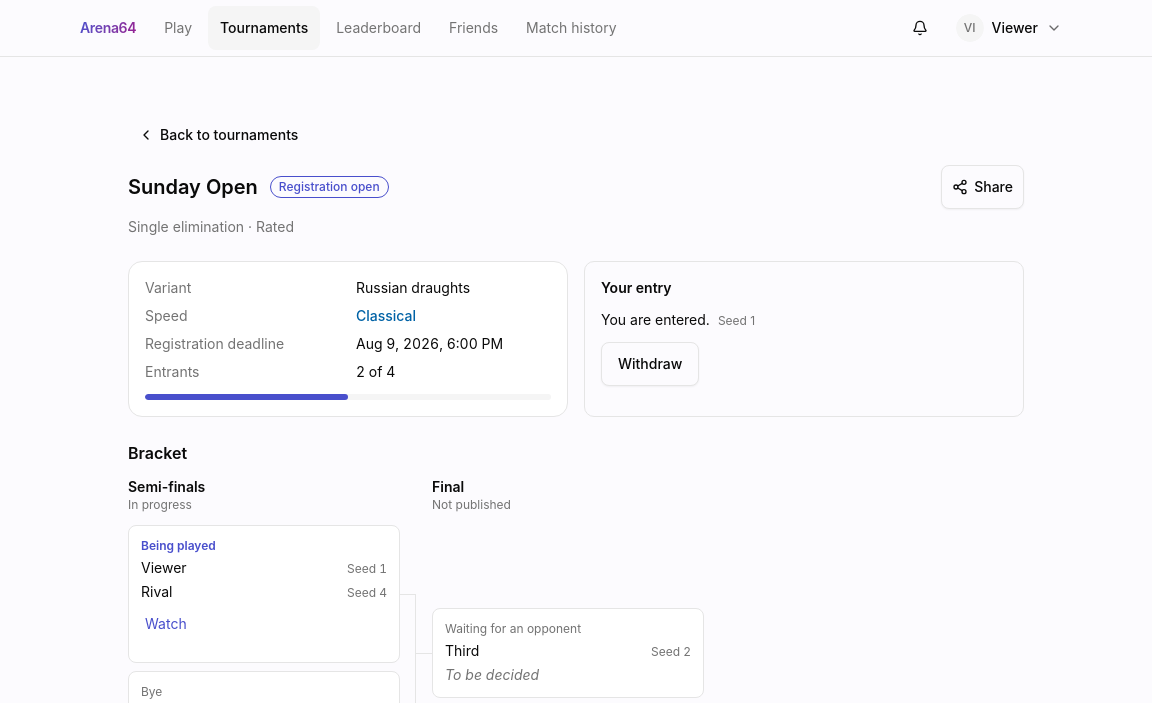
Test: asks before withdrawing and reports the server's refusal by code
Click the button "Withdraw".
click(650, 364)  # box x1=601 y1=342 x2=699 y2=386
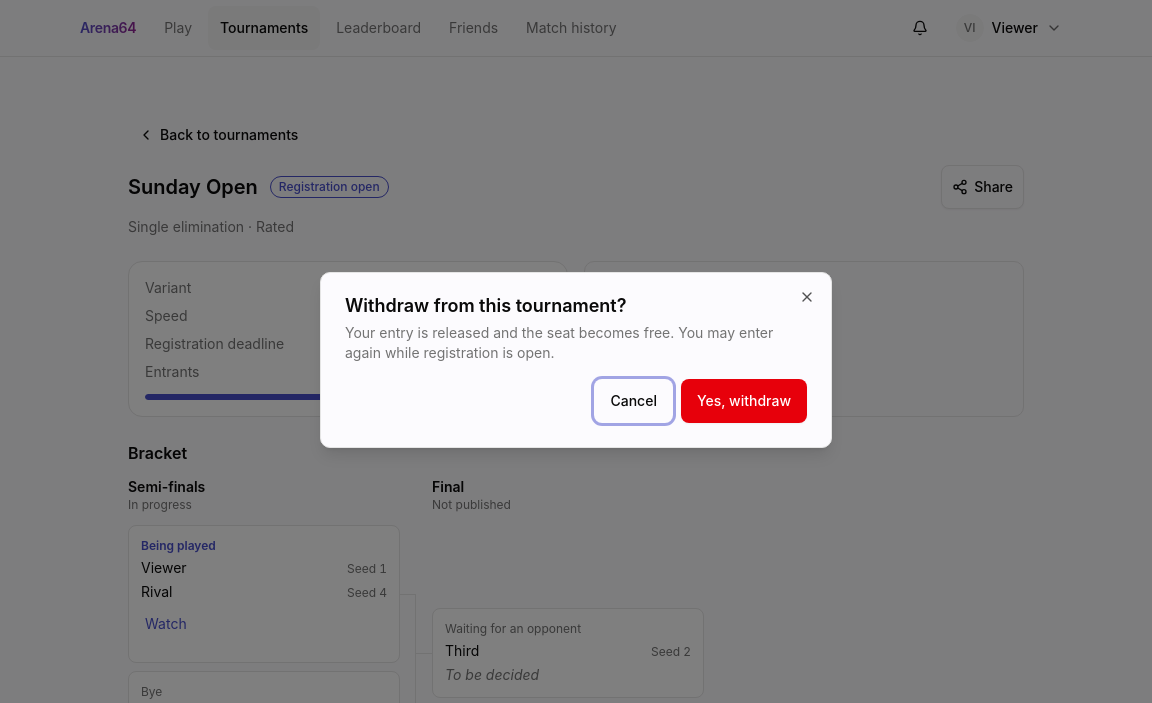
Click the button "Yes, withdraw".
click(744, 401)  # box x1=681 y1=379 x2=807 y2=423
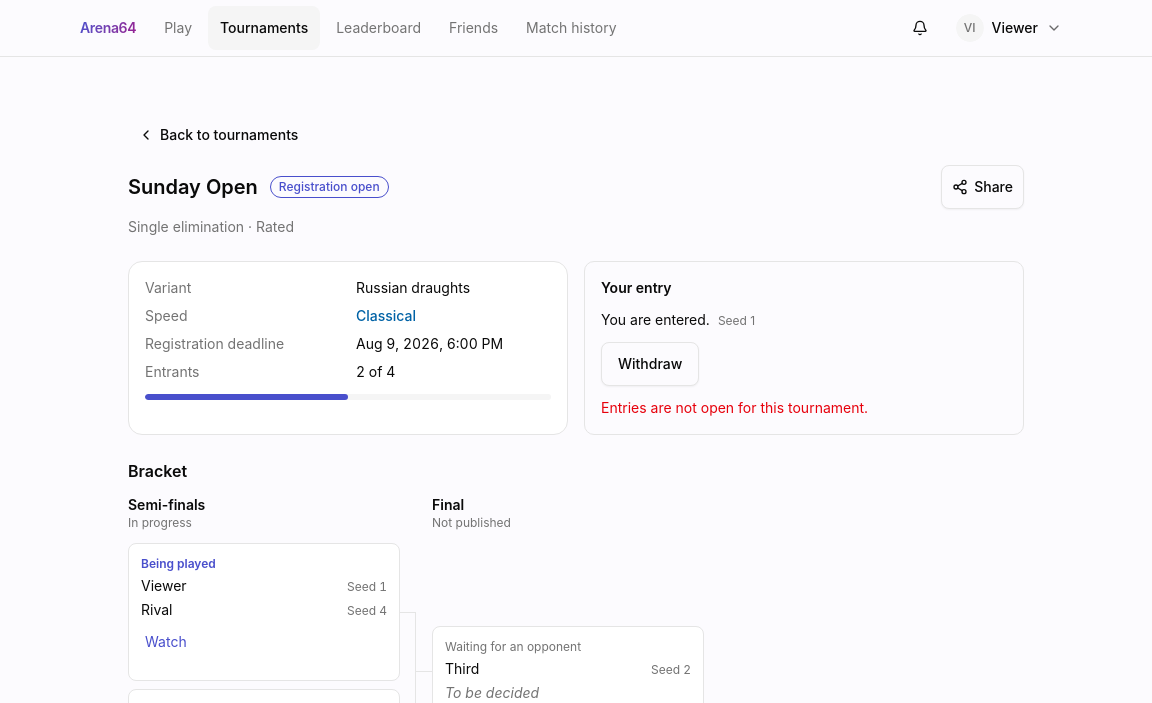
Expected: the message does not show "internal detail", x1=601 y1=399 x2=868 y2=416
Expected: the message reads "Entries are not open for this tournament.", x1=601 y1=399 x2=868 y2=416
